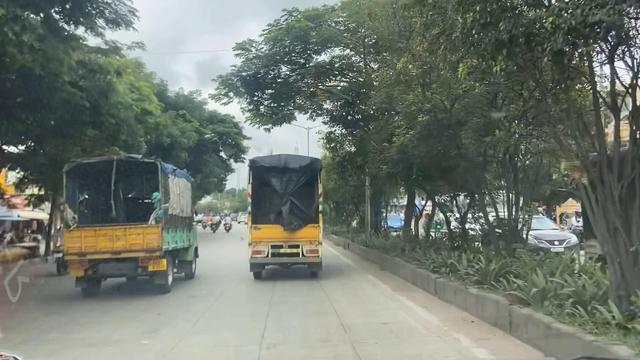HMV: (55, 153, 206, 305), (218, 124, 333, 299)
